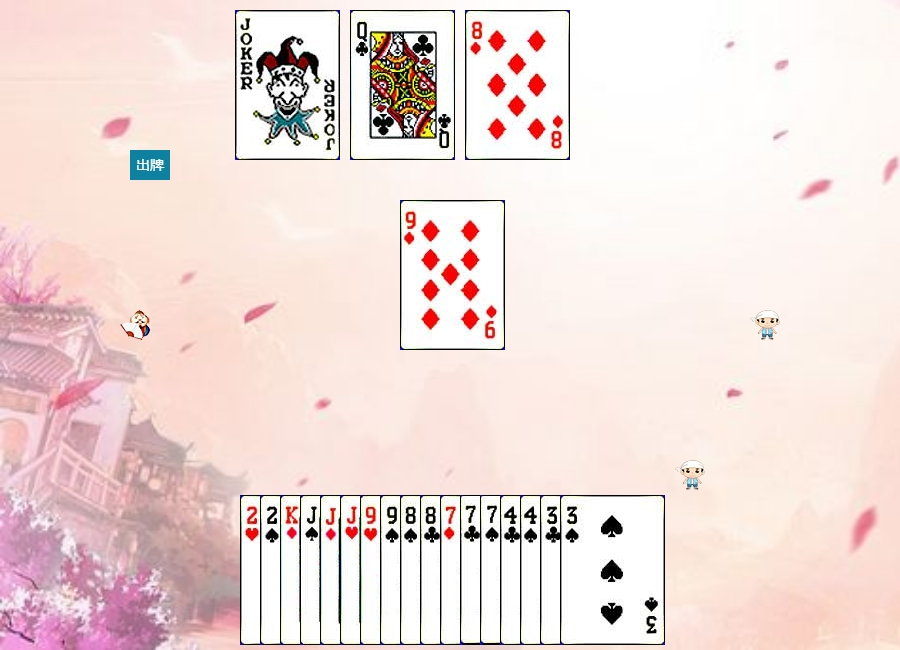11~1: (320, 495, 425, 645)
11~3: (340, 495, 445, 645)
11~4: (300, 495, 405, 645)
12~2: (350, 10, 455, 160)
13~1: (280, 495, 385, 645)
15~3: (240, 495, 345, 645)
15~4: (260, 495, 365, 645)
17~3: (235, 10, 340, 160)
3~2: (540, 495, 645, 645)
3~4: (560, 495, 665, 645)
4~2: (500, 495, 605, 645)
4~4: (520, 495, 625, 645)
7~1: (440, 495, 545, 645)
7~2: (460, 495, 565, 645)
7~4: (480, 495, 585, 645)
8~1: (465, 10, 570, 160)
8~2: (420, 495, 525, 645)
8~4: (400, 495, 505, 645)
9~1: (400, 200, 505, 350)
9~3: (360, 495, 465, 645)
9~4: (380, 495, 485, 645)
